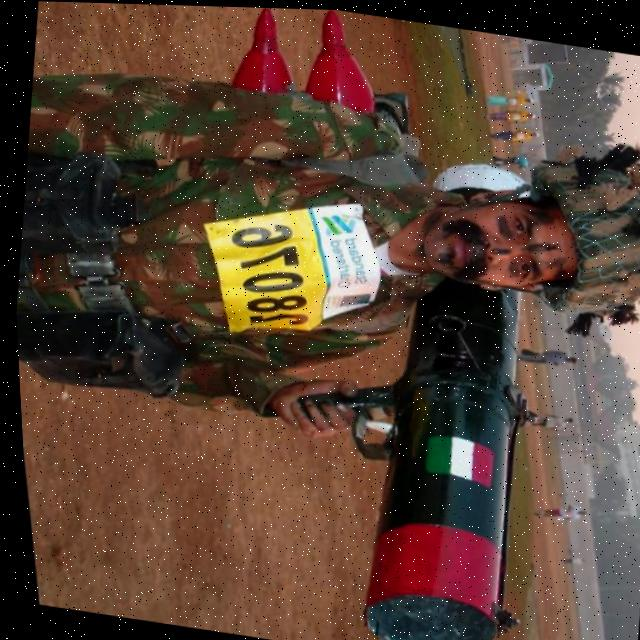rocket: (273, 258, 609, 640)
